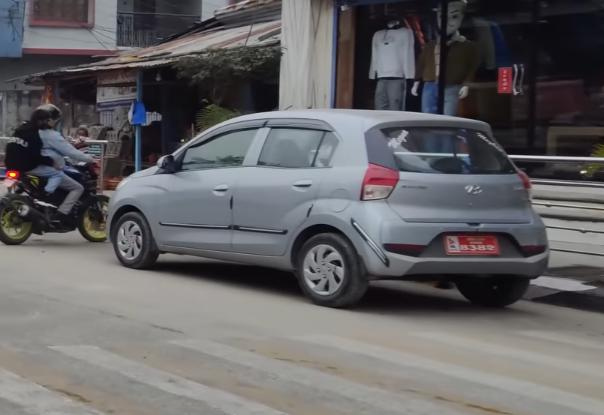bike: (0, 159, 118, 251)
car: (100, 111, 553, 310)
